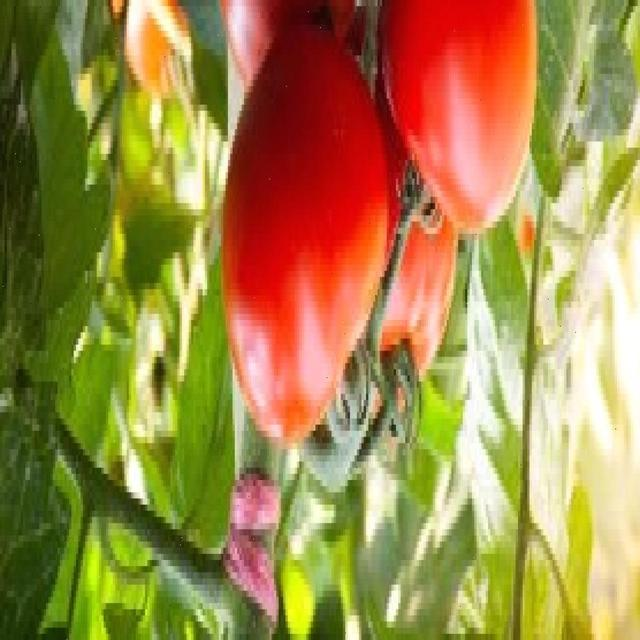Healthy Fruit: (98, 31, 304, 264)
